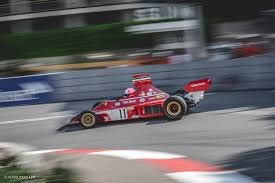FormulaOneCar: (53, 72, 214, 137)
